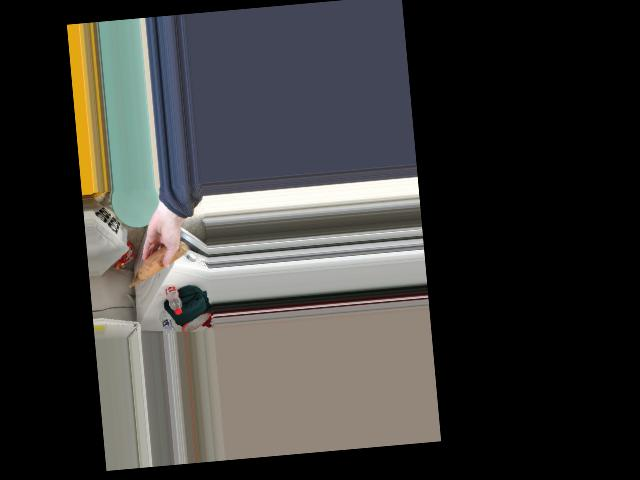sweet_potato: (140, 245, 176, 281)
